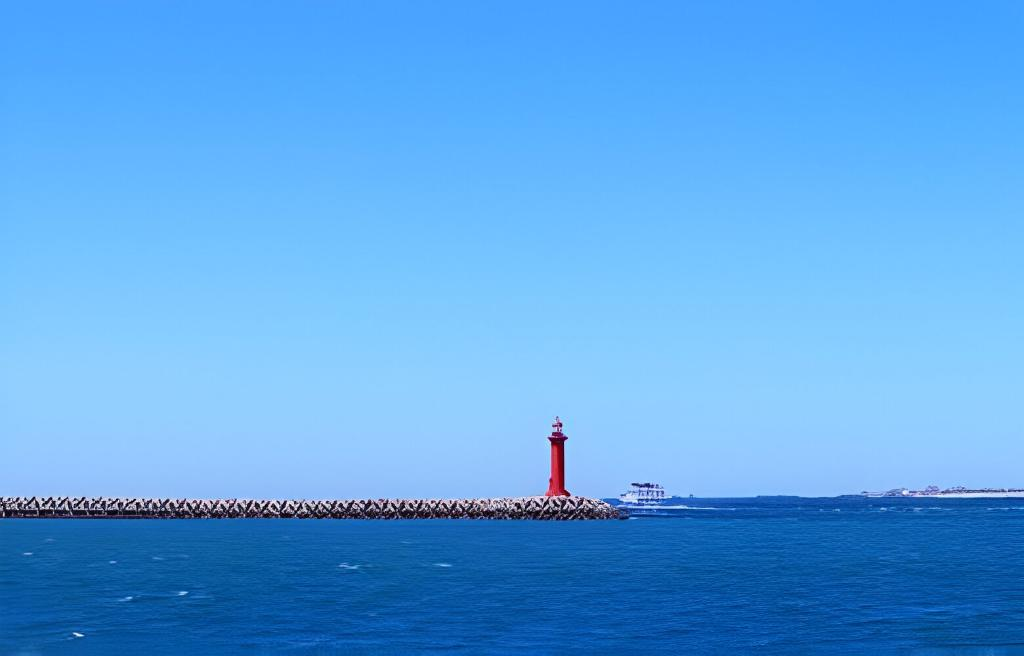PassengerShip: (614, 476, 670, 508)
